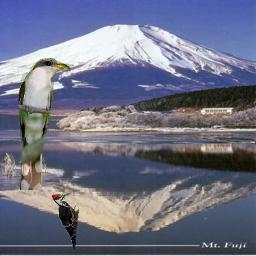Cuckoo: (17, 57, 71, 190)
Woodpecker: (51, 192, 79, 253)
